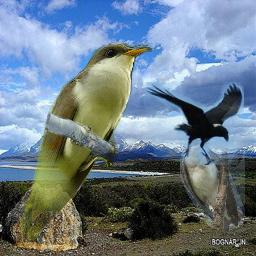Crow: (144, 82, 244, 165)
Cuckoo: (17, 42, 153, 241)
Swallow: (180, 135, 245, 233)
